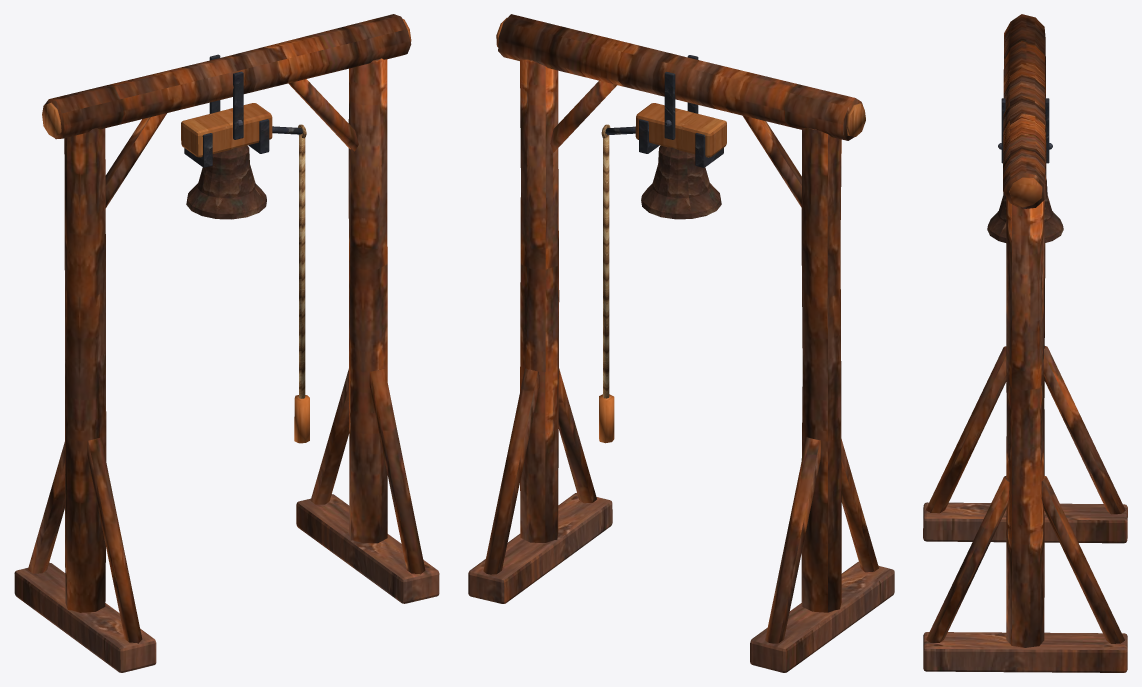
Rendered from lw_bell_frame.glb.
The picture shows the model from 3 angles, left to right: view 1: azimuth 30°, elevation 25°; view 2: azimuth 150°, elevation 25°; view 3: azimuth 270°, elevation 25°; orthographic projection. The views are drawn at different scales.
Visible parts, largest first — view 1: model; view 2: model; view 3: model.
Boxes of the visible parts, x1,y1,x2,y2 form: model: (14,14,439,672); model: (468,14,894,672); model: (923,14,1127,672).
Size of the model in its own units: 1.12 by 1.64 by 0.6012.
Materials: 15 (15 with a texture image).
